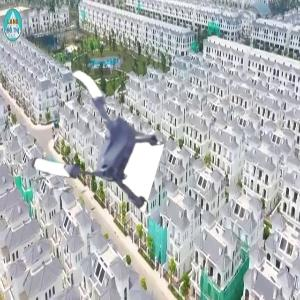drone: (37, 73, 166, 202)
